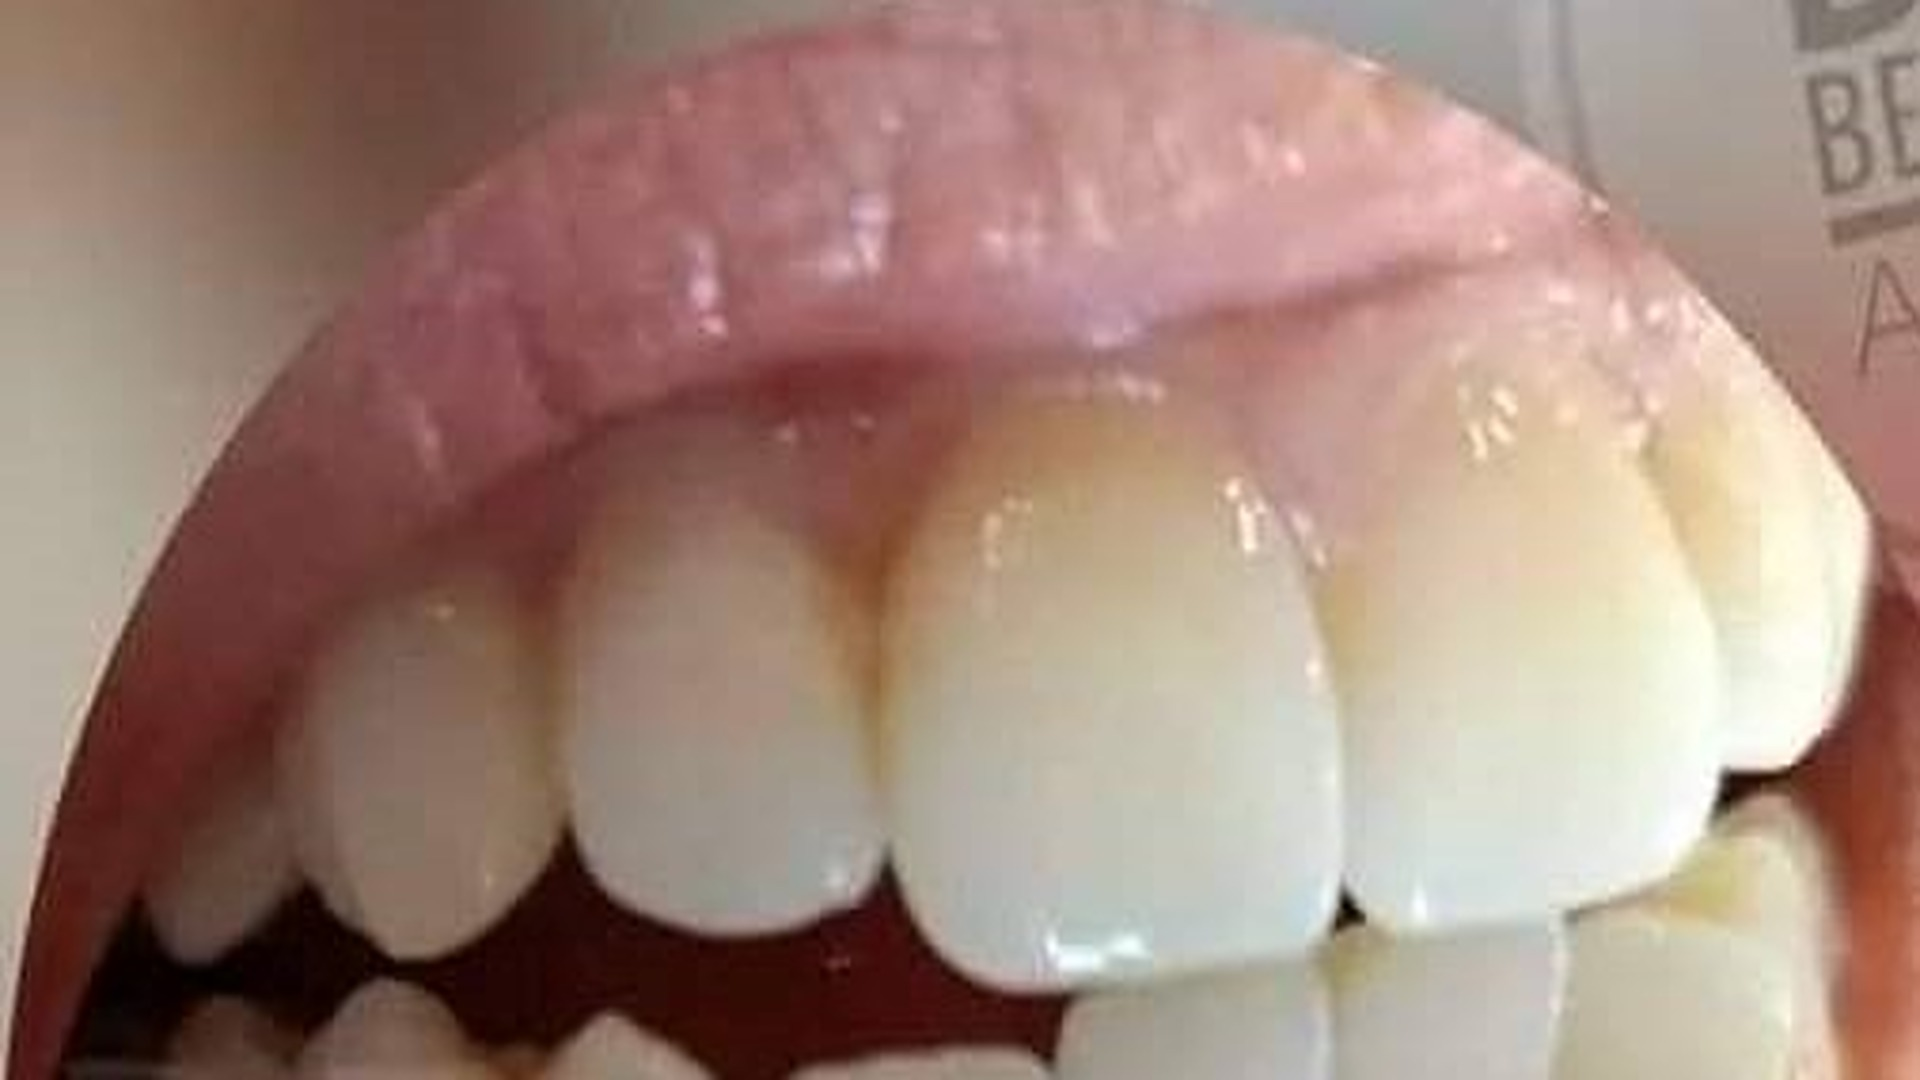tooth: (880, 388, 1342, 994), (1308, 353, 1729, 936), (562, 512, 889, 939), (284, 578, 571, 961), (1642, 320, 1874, 771), (1555, 831, 1799, 1077), (1054, 943, 1336, 1077), (1324, 924, 1553, 1077), (146, 798, 306, 964), (297, 978, 508, 1077), (541, 1009, 719, 1077), (786, 1044, 1056, 1077)
